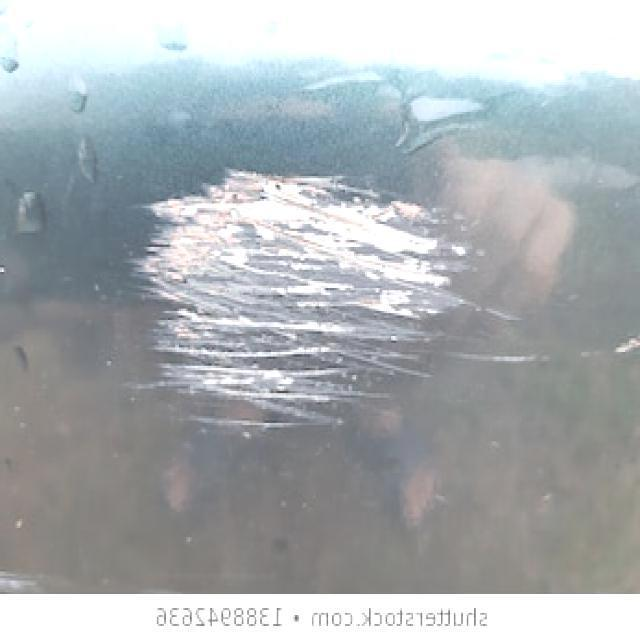minor: (574, 340, 640, 366)
moderate: (144, 165, 463, 429), (455, 351, 552, 370)
